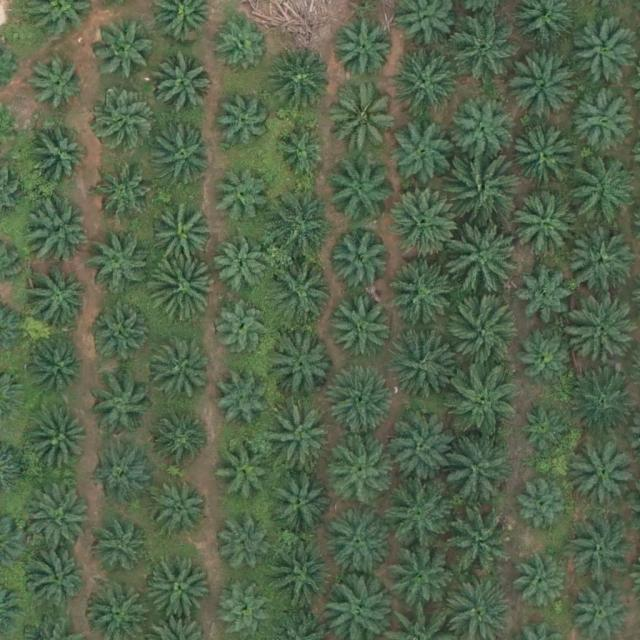Healthy: (565, 230, 636, 301), (389, 328, 460, 399), (389, 259, 460, 330), (267, 405, 338, 476), (266, 254, 337, 325), (570, 156, 640, 227), (511, 189, 581, 260), (445, 157, 516, 227), (451, 300, 522, 370), (448, 366, 518, 437), (442, 434, 512, 505), (384, 537, 454, 608), (384, 480, 454, 551), (325, 157, 395, 228), (326, 367, 397, 437), (266, 540, 336, 611), (148, 254, 218, 325), (26, 483, 96, 554), (450, 14, 520, 85), (388, 45, 458, 116), (570, 365, 640, 435), (564, 515, 634, 585), (449, 227, 519, 297), (446, 503, 516, 573), (385, 413, 455, 483), (389, 187, 459, 257), (326, 510, 396, 580), (267, 192, 337, 262), (144, 553, 214, 623), (569, 18, 639, 88), (510, 49, 580, 119), (331, 85, 401, 155), (571, 301, 640, 372), (571, 439, 640, 510), (515, 266, 578, 329), (330, 444, 393, 507), (265, 472, 328, 535), (272, 336, 335, 399), (87, 236, 150, 299), (30, 200, 93, 263), (29, 265, 92, 328), (509, 128, 572, 191), (452, 99, 515, 162), (152, 52, 215, 115), (92, 90, 155, 153), (328, 231, 390, 294), (333, 296, 395, 359), (147, 477, 209, 540), (147, 338, 210, 400), (155, 206, 217, 269), (89, 305, 151, 368), (90, 374, 153, 436), (90, 451, 153, 513), (92, 520, 154, 583), (27, 549, 89, 612), (574, 89, 636, 152), (390, 121, 452, 184), (335, 18, 397, 81), (152, 124, 214, 187), (25, 53, 87, 116), (29, 128, 91, 190), (31, 411, 93, 473), (269, 51, 331, 113), (95, 18, 157, 80), (212, 171, 267, 226), (214, 241, 269, 296), (215, 302, 270, 357), (218, 445, 273, 500), (221, 520, 276, 575), (151, 411, 206, 466), (101, 172, 156, 227), (31, 338, 86, 393), (274, 122, 329, 177), (214, 16, 269, 71), (516, 554, 570, 609), (516, 476, 570, 531), (523, 331, 577, 386), (216, 376, 270, 431), (217, 586, 272, 640), (216, 93, 270, 148)
Small: (522, 407, 569, 455)
